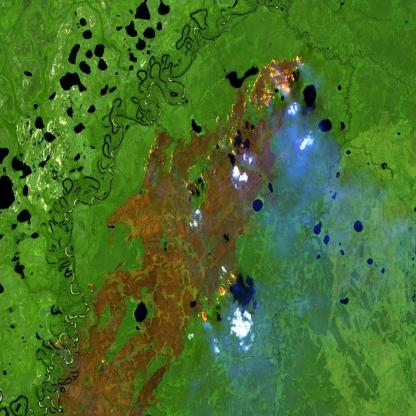fire: (143, 51, 306, 194), (196, 267, 241, 333)
